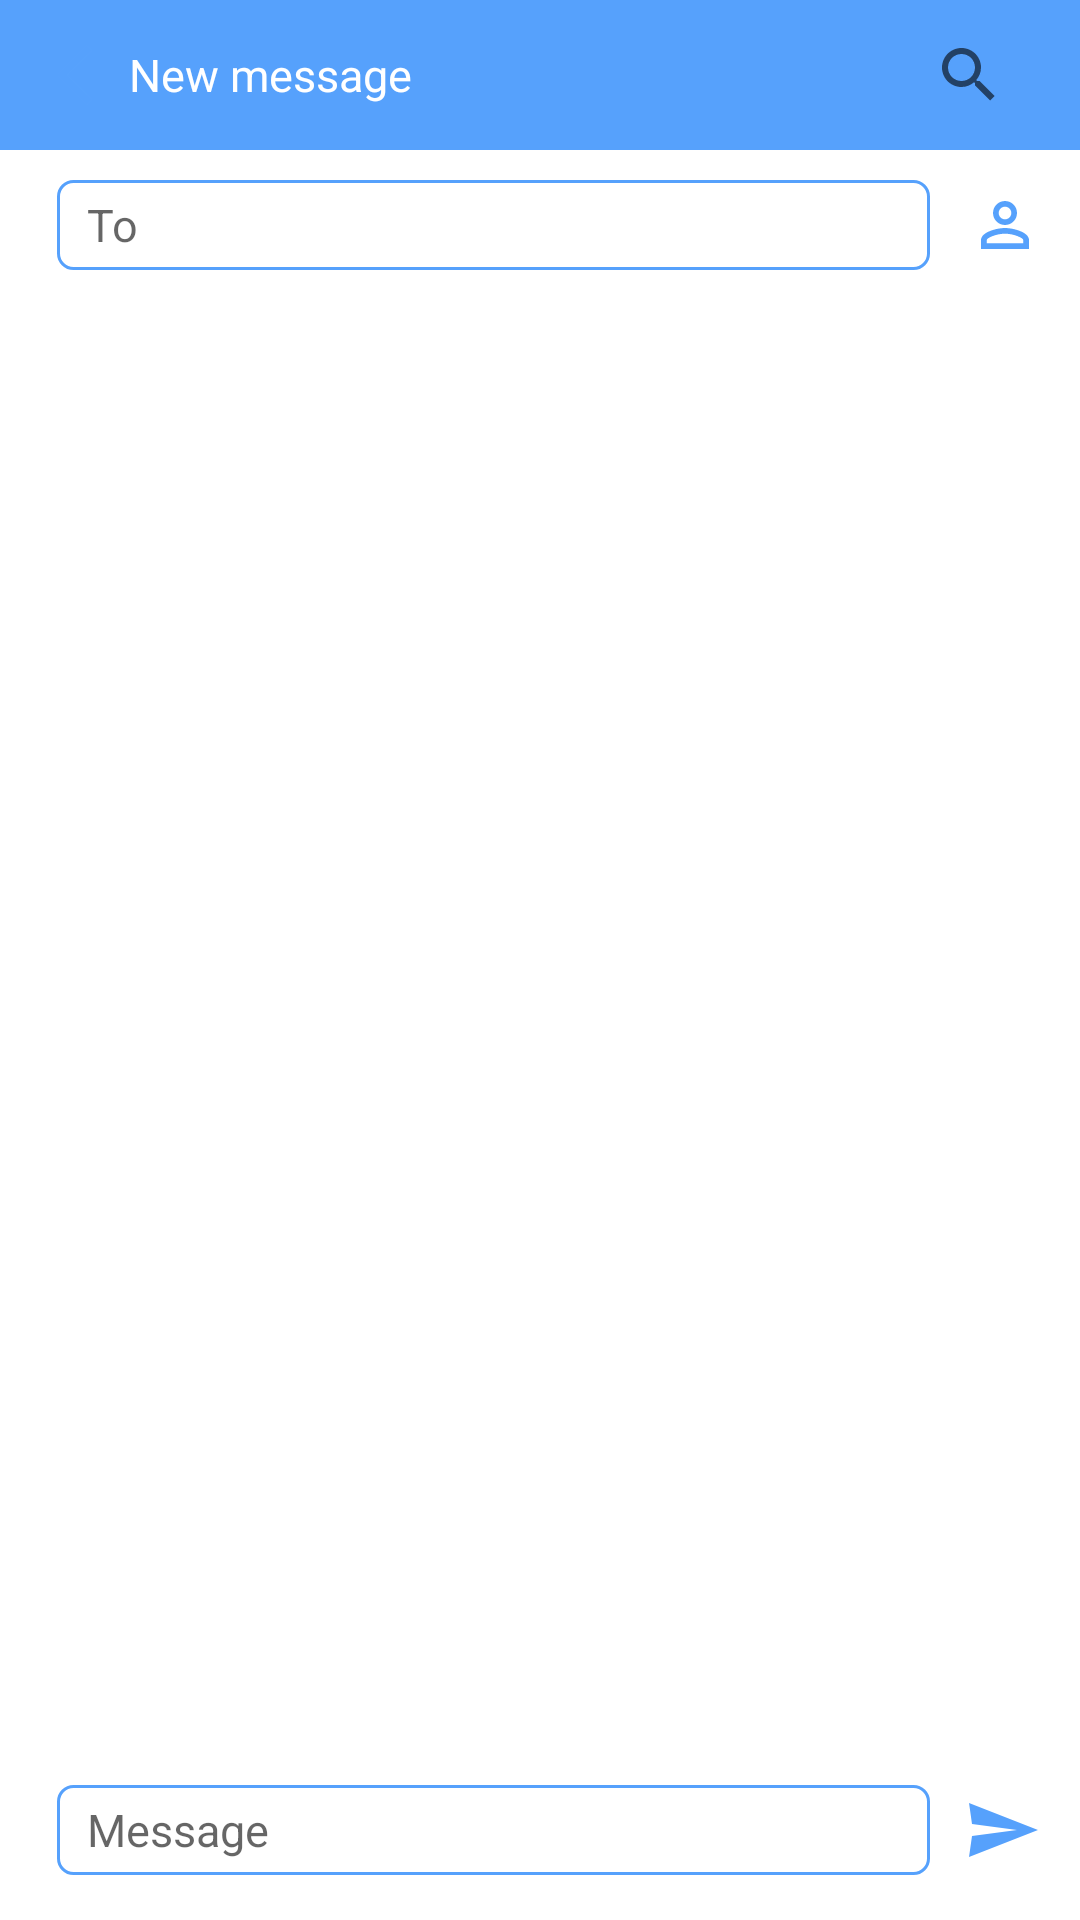

Where to tap for icons on this 1080 × 1920 app screen, as [x,y]:
person: [1005,225]
send: [1003,1830]
